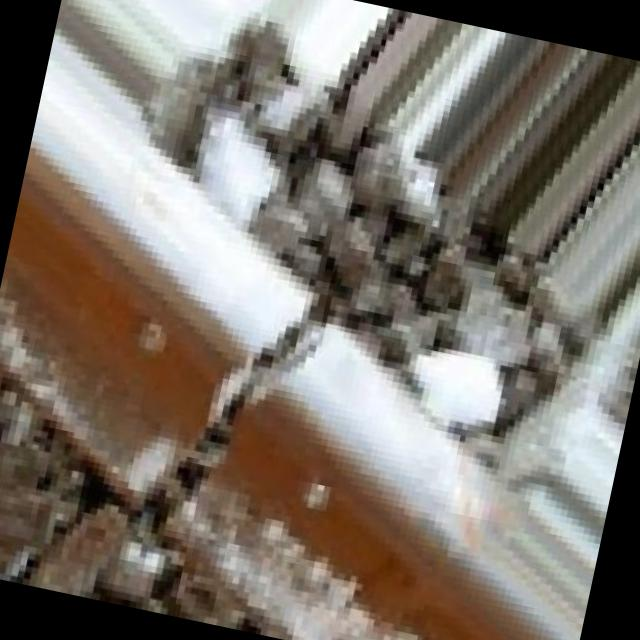defective: (49, 67, 545, 640)
